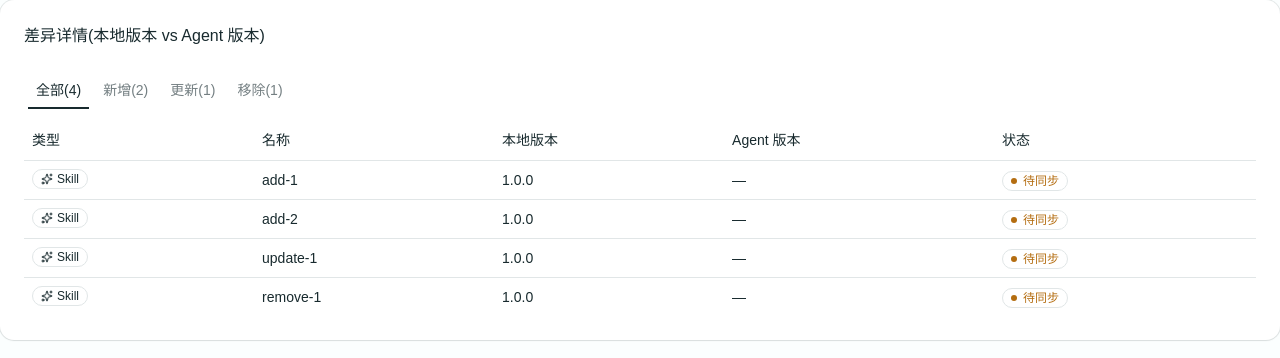
Test: DiffDetailPanel › Tab 计数应正确, 切换 Tab 应按 action 过滤条目
The image size is (1280, 358).
Check: the tab "全部(4)" is shown, box [27, 76, 90, 104]
Check: the tab "新增(2)" is shown, box [94, 76, 157, 104]
What coordinates should you click on to do the following:
click the tab "更新(1)"
I would click on:
 (193, 90)
Its box is [161, 76, 224, 104].
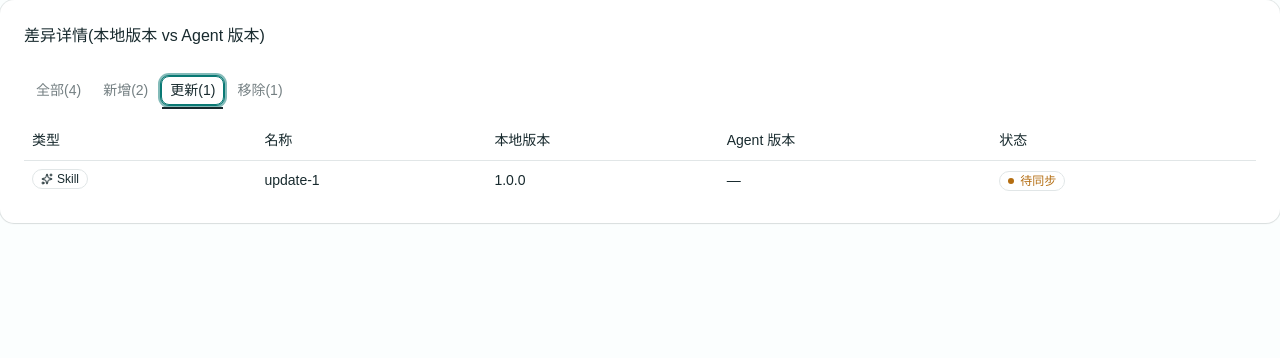
Check: the text "update-1" is shown, box [256, 160, 486, 198]
Check: the text "add-1" is gone
Check: the text "remove-1" is gone
